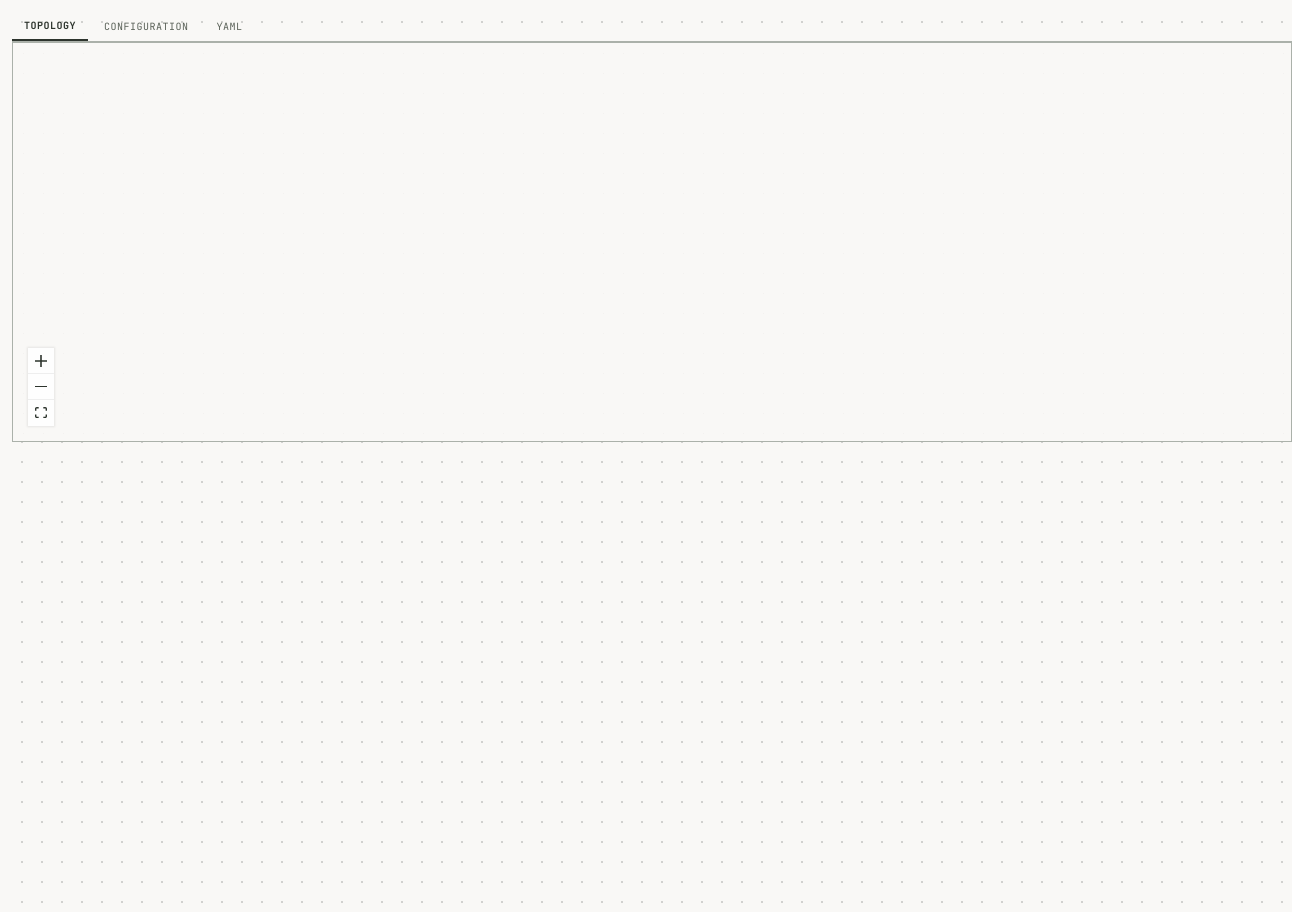
Test: SoftwareTeamSpecDisplay › renders YAML tab content
The image size is (1292, 912).
Click the button with test id "tab-yaml" at (230, 26), box [204,12,254,41]
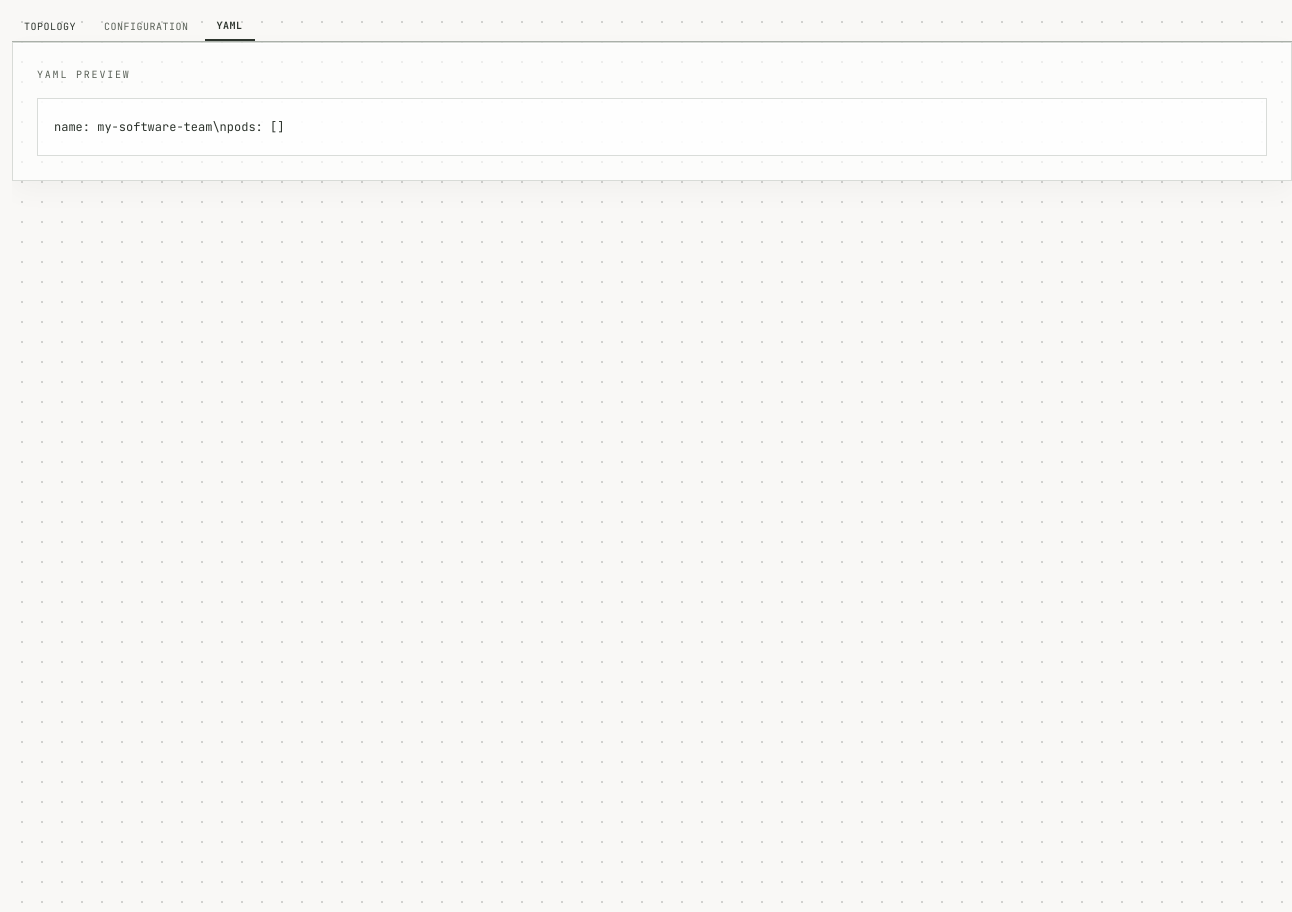
Expected: the text with test id "spec-yaml" shows "name: my-software-team", [54,119,284,135]
